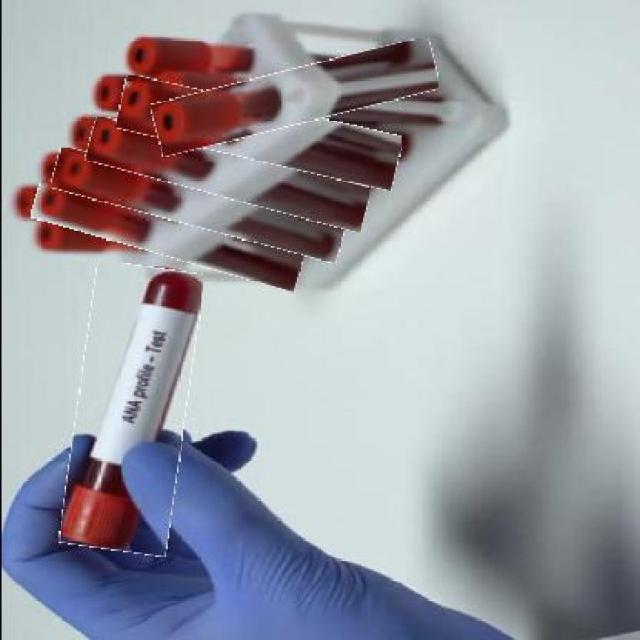Experimental-tube: (67, 263, 195, 554), (150, 53, 438, 139), (116, 90, 402, 176), (84, 132, 370, 215), (49, 164, 345, 244), (30, 197, 304, 274)
